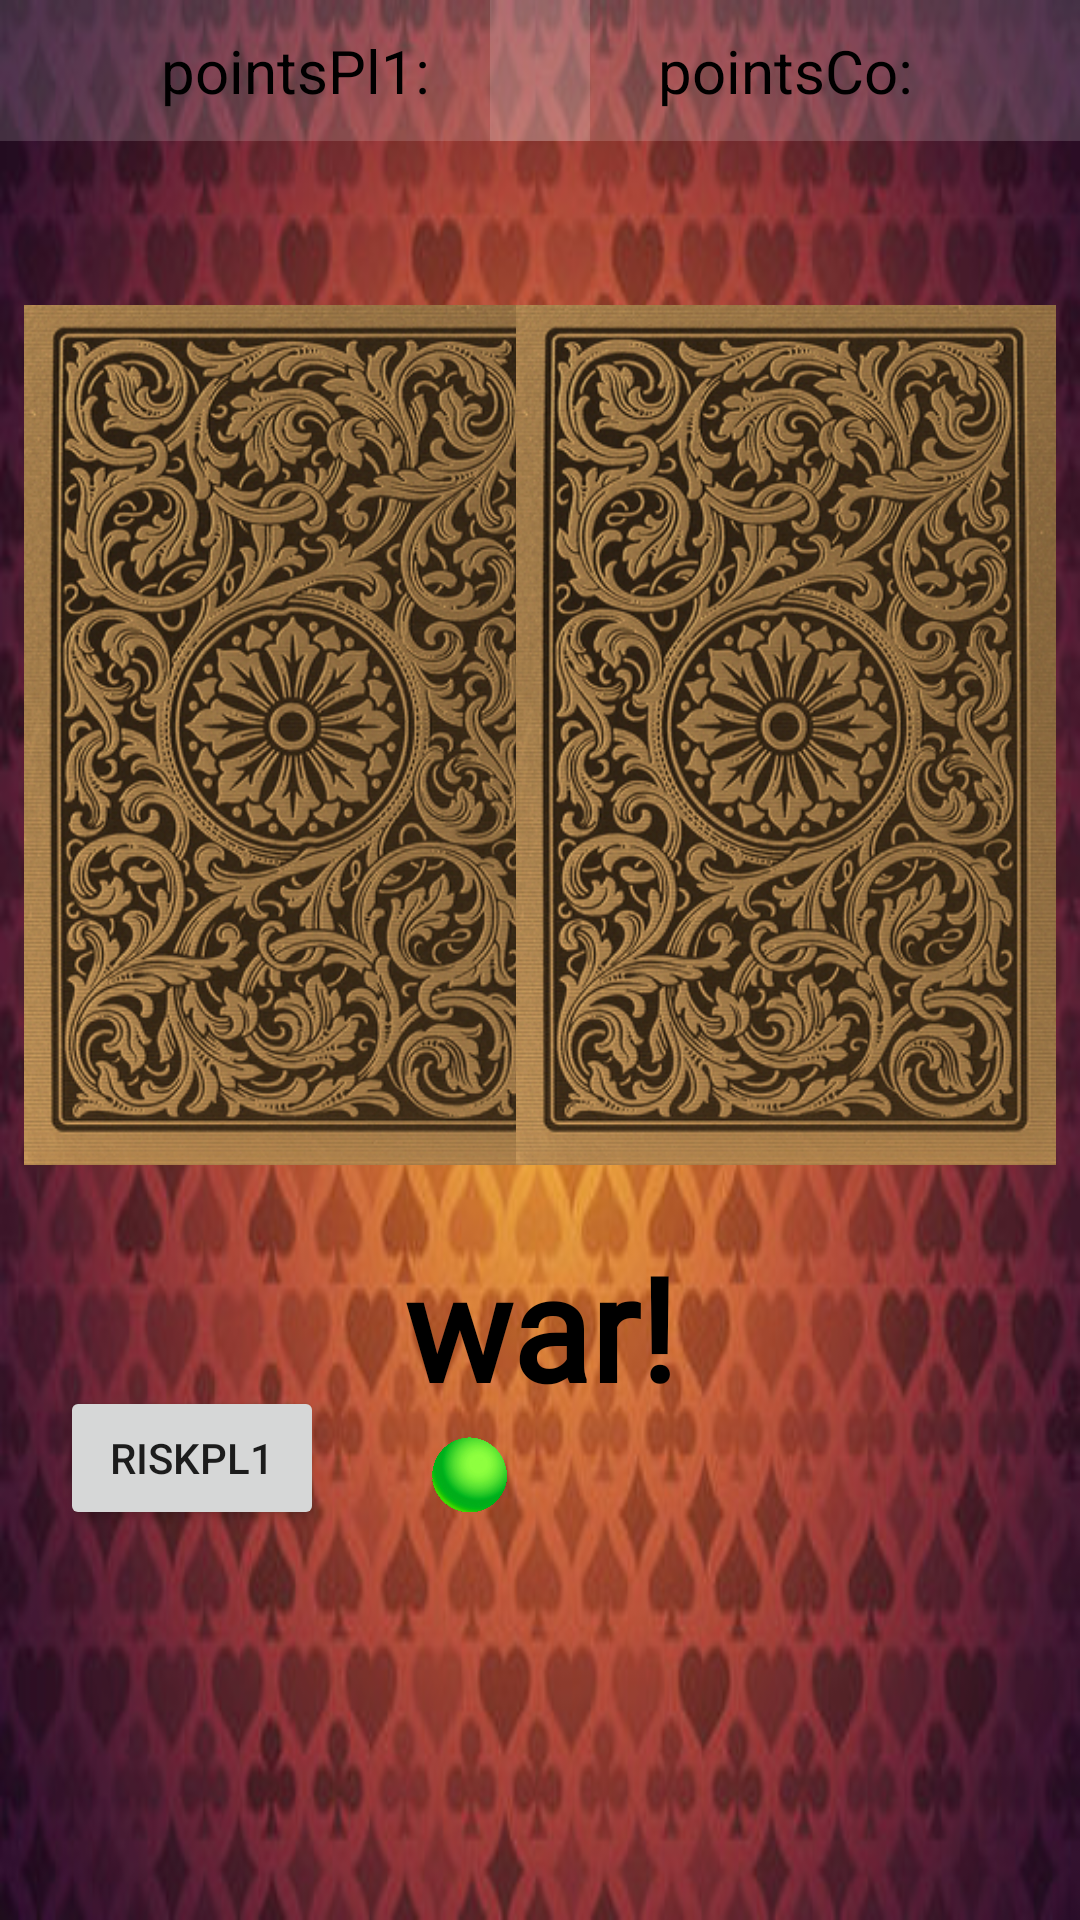

Screen size 1080x1920. Icon name, then its center in pixels as (x=x, y=y):
boll: (x=469, y=1474)
